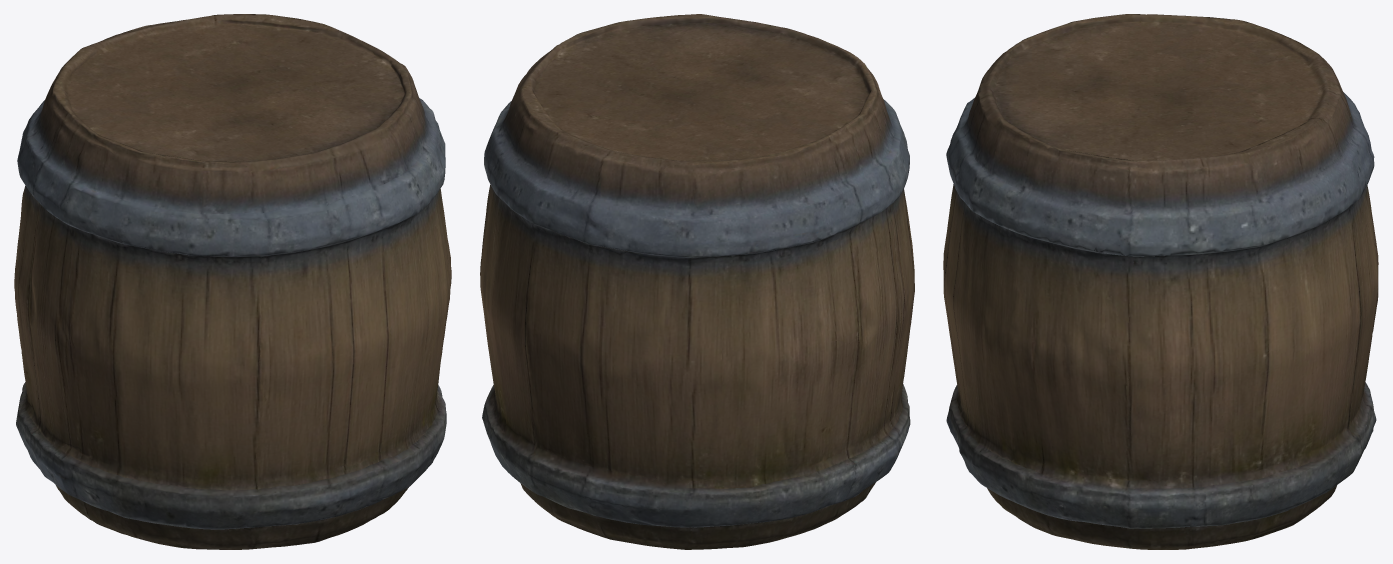
File: kit_barrel.glb
The picture shows the model from 3 angles, left to right: view 1: azimuth 30°, elevation 25°; view 2: azimuth 150°, elevation 25°; view 3: azimuth 270°, elevation 25°; orthographic projection.
Parts seen in each view (by area): view 1: kit_barrel_s7_fit; view 2: kit_barrel_s7_fit; view 3: kit_barrel_s7_fit.
Boxes of the visible parts, box(x1,y1,x2,y2) form: kit_barrel_s7_fit: box(14, 14, 451, 549); kit_barrel_s7_fit: box(480, 14, 914, 549); kit_barrel_s7_fit: box(943, 14, 1378, 549).
Bounding box in the file's own units: 0.6205 × 0.615 × 0.619.
1 material, 1 textured.
